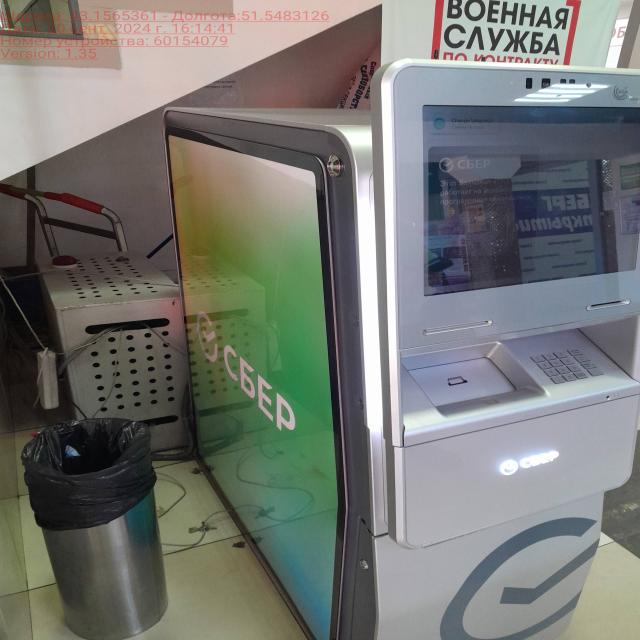bank: (165, 59, 640, 640)
